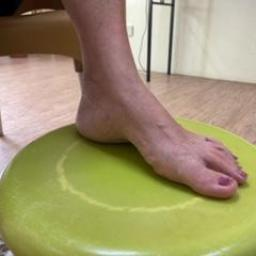Medial View -Left Foot-: (62, 24, 254, 214)
